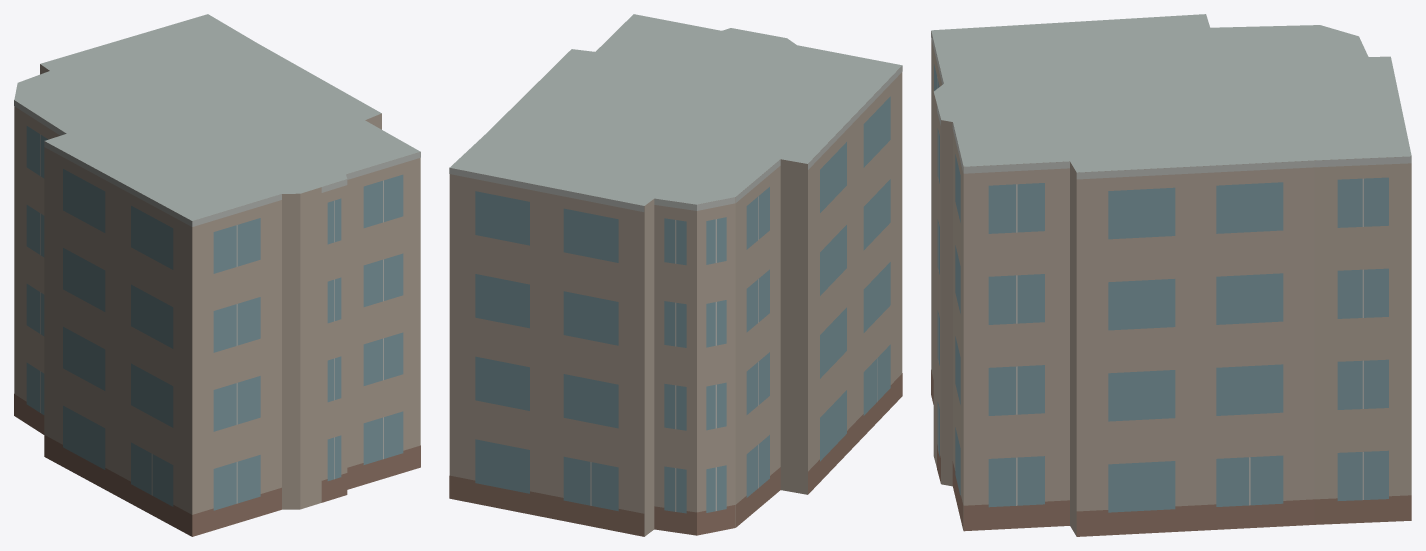
The model's file is survey-upis-32743193.glb.
3 views of the same model, side by side, from view 1: azimuth 30°, elevation 25°; view 2: azimuth 150°, elevation 25°; view 3: azimuth 270°, elevation 25° (orthographic). The views are drawn at different scales.
Visible parts, largest first — view 1: survey-upis-32743193.tmp; view 2: survey-upis-32743193.tmp; view 3: survey-upis-32743193.tmp.
Part boxes in pixels (x1,y1,x2,y2): survey-upis-32743193.tmp: (14, 14, 420, 536); survey-upis-32743193.tmp: (449, 14, 902, 536); survey-upis-32743193.tmp: (931, 14, 1411, 536).
Bounding box in the file's own units: 11.95 × 12.8 × 15.31.
